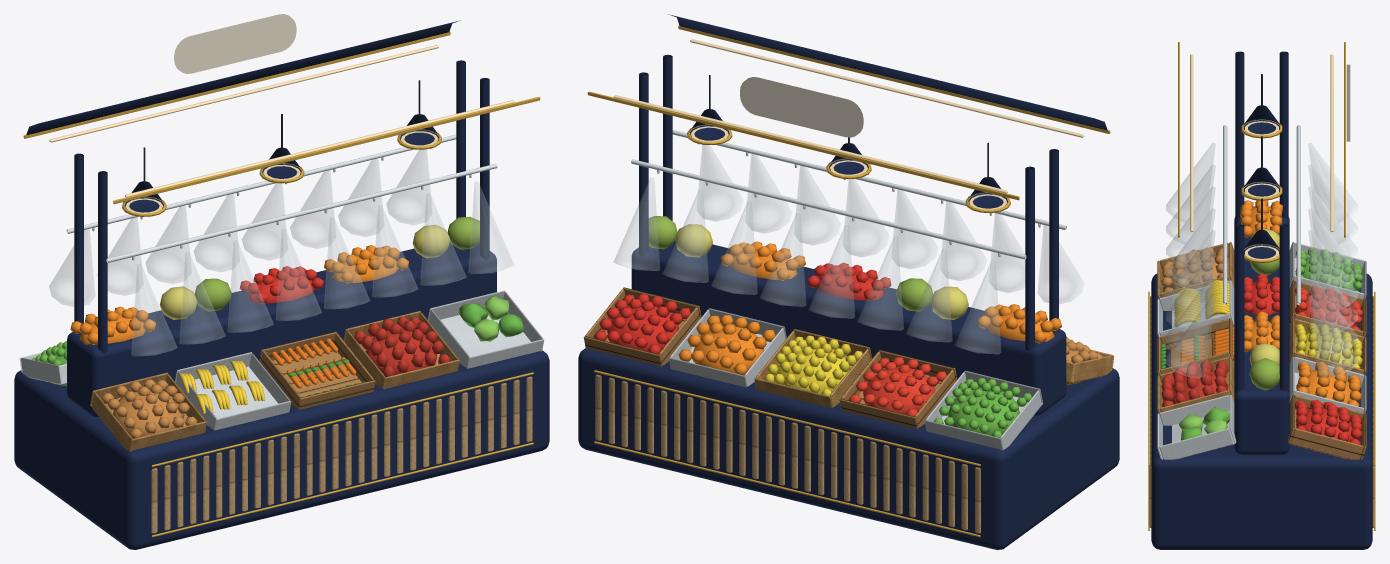
File: produce_T4.fbx
3 views of the same model, side by side, from view 1: azimuth 30°, elevation 25°; view 2: azimuth 150°, elevation 25°; view 3: azimuth 270°, elevation 25° (orthographic). The views are drawn at different scales.
Parts seen in each view (by area): view 1: Body, Anim Fill 0, Anim Fill 3; view 2: Body, Anim Fill 0, Anim Fill 3, Anim Fill 1, Anim Fill 2; view 3: Body, Anim Fill 0, Anim Fill 3, Anim Fill 1, Anim Fill 2.
Boxes of the visible parts, <box> form: Body: <box>14,14,549,549</box>; Anim Fill 0: <box>354,295,524,377</box>; Anim Fill 3: <box>32,341,197,438</box>; Body: <box>578,14,1119,549</box>; Anim Fill 0: <box>594,294,775,375</box>; Anim Fill 3: <box>933,337,1102,437</box>; Anim Fill 1: <box>764,335,862,395</box>; Anim Fill 2: <box>849,357,946,416</box>; Body: <box>1148,42,1375,549</box>; Anim Fill 0: <box>1161,360,1362,453</box>; Anim Fill 3: <box>1161,247,1363,292</box>; Anim Fill 1: <box>1161,323,1362,368</box>; Anim Fill 2: <box>1295,286,1363,330</box>.
Bounding box in the file's own units: 2.48 × 2.22 × 1.23.
